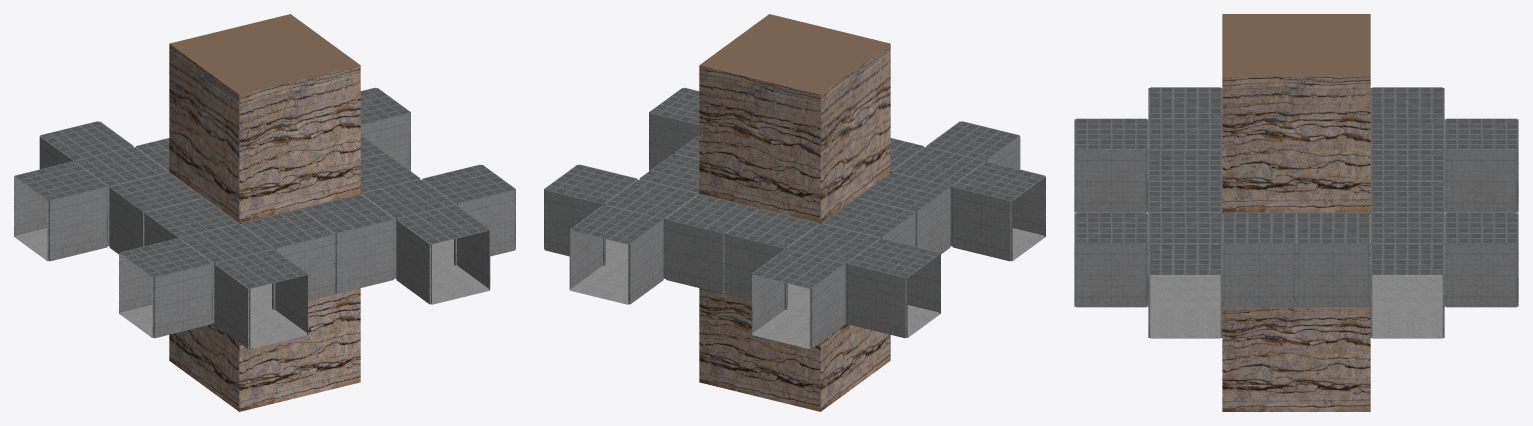
File: Hub.fbx
3 renders of one model, left to right at view 1: azimuth 30°, elevation 25°; view 2: azimuth 150°, elevation 25°; view 3: azimuth 270°, elevation 25°, orthographic. The views are drawn at different scales.
Visible parts, largest first — view 1: Cube.008, Room.010, Room.011, Room.001, Room.003, Room.005, Room.015, Room.016, Room.004; view 2: Cube.008, Room.010, Room.011, Room.004, Room.005, Room.003, Room.016, Room.015, Room.001; view 3: Cube.008, Room.011, Room.010, Room.015, Room.016, Room.001, Room.004, Room.003, Room.005.
Part boxes in pixels (bbox=[...]): Cube.008: bbox=[169, 14, 360, 411]; Room.010: bbox=[39, 121, 308, 348]; Room.011: bbox=[359, 135, 490, 304]; Room.001: bbox=[240, 194, 394, 306]; Room.003: bbox=[119, 238, 212, 338]; Room.005: bbox=[14, 161, 107, 261]; Room.015: bbox=[422, 164, 515, 262]; Room.016: bbox=[360, 87, 410, 170]; Room.004: bbox=[135, 138, 169, 172]; Cube.008: bbox=[699, 14, 890, 411]; Room.010: bbox=[751, 121, 1020, 348]; Room.011: bbox=[569, 135, 700, 304]; Room.004: bbox=[665, 194, 819, 306]; Room.005: bbox=[847, 238, 940, 338]; Room.003: bbox=[952, 161, 1045, 261]; Room.016: bbox=[544, 164, 637, 262]; Room.015: bbox=[649, 87, 699, 170]; Room.001: bbox=[890, 138, 924, 172]; Cube.008: bbox=[1222, 14, 1370, 411]; Room.011: bbox=[1074, 212, 1518, 307]; Room.010: bbox=[1074, 118, 1518, 212]; Room.015: bbox=[1148, 243, 1222, 338]; Room.016: bbox=[1370, 243, 1444, 338]; Room.001: bbox=[1148, 150, 1224, 275]; Room.004: bbox=[1368, 150, 1444, 275]; Room.003: bbox=[1148, 87, 1222, 119]; Room.005: bbox=[1370, 87, 1444, 119].
Size of the model in its own units: 1200 by 1000 by 1200.
